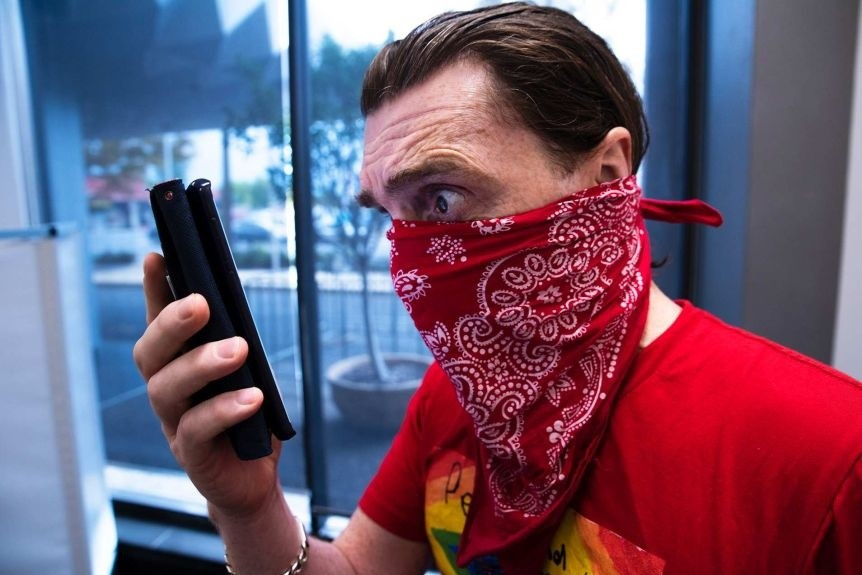face_with_mask: (351, 10, 649, 348)
